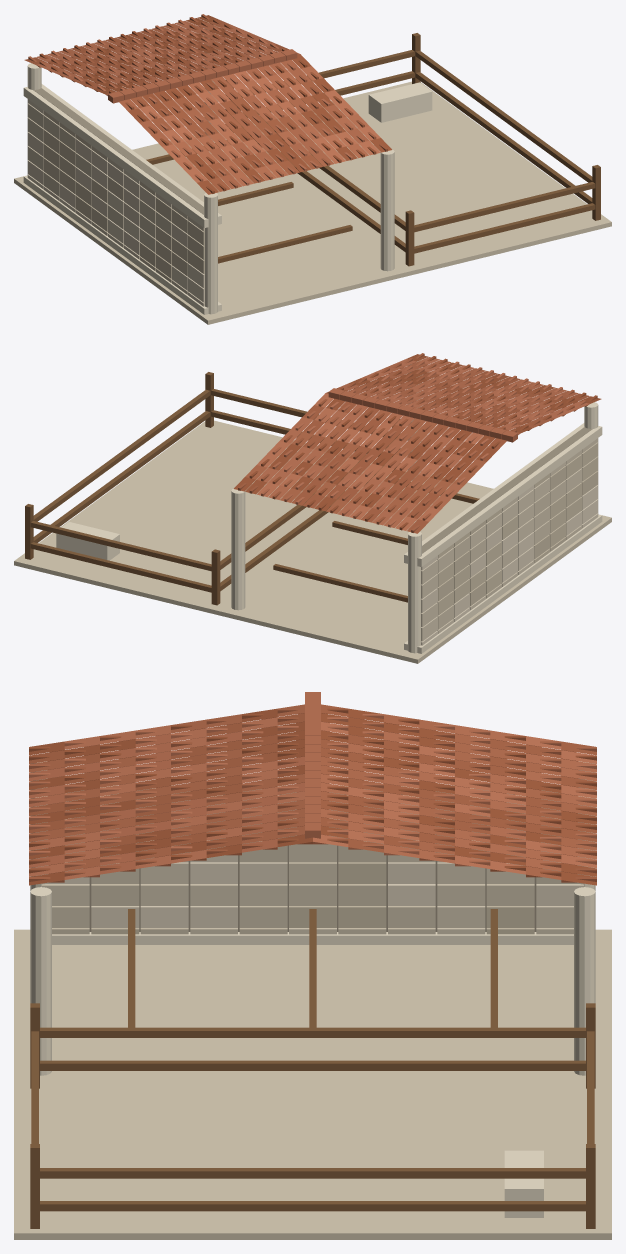
3 views of the same model, one above another, from view 1: azimuth 30°, elevation 25°; view 2: azimuth 150°, elevation 25°; view 3: azimuth 270°, elevation 25° (orthographic). The views are drawn at different scales.
Visible parts, largest first — view 1: Bergfried – Steine, Säulen, Ziegel und Feuerstelle; view 2: Bergfried – Steine, Säulen, Ziegel und Feuerstelle; view 3: Bergfried – Steine, Säulen, Ziegel und Feuerstelle.
Part boxes in pixels (x1,y1,x2,y2): Bergfried – Steine, Säulen, Ziegel und Feuerstelle: (14, 14, 611, 324); Bergfried – Steine, Säulen, Ziegel und Feuerstelle: (14, 353, 611, 663); Bergfried – Steine, Säulen, Ziegel und Feuerstelle: (14, 692, 611, 1239).
Bounding box in the file's own units: 1192 × 445 × 990.
